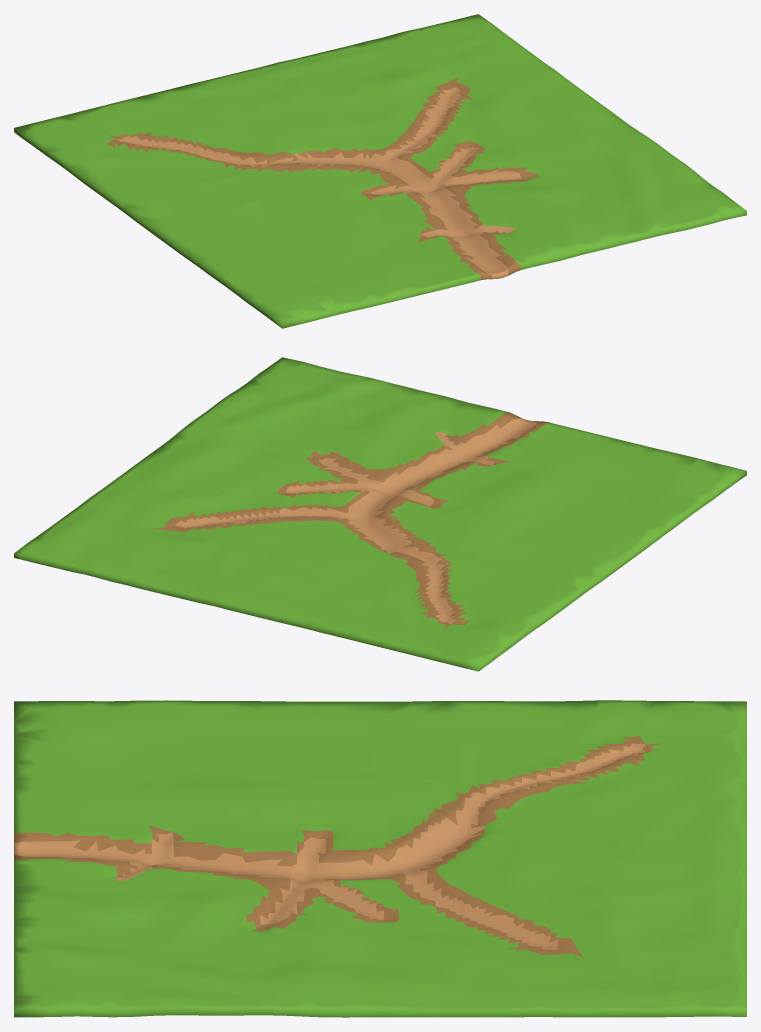
File: Map.fbx
3 views of the same model, one above another, from view 1: azimuth 30°, elevation 25°; view 2: azimuth 150°, elevation 25°; view 3: azimuth 270°, elevation 25° (orthographic). The views are drawn at different scales.
Visible parts, largest first — view 1: Map; view 2: Map; view 3: Map.
Part boxes in pixels (x1,y1,x2,y2): Map: (14,14,746,328); Map: (14,357,746,671); Map: (14,700,746,1017).
Bounding box in the file's own units: 12637 × 296 × 12635.
